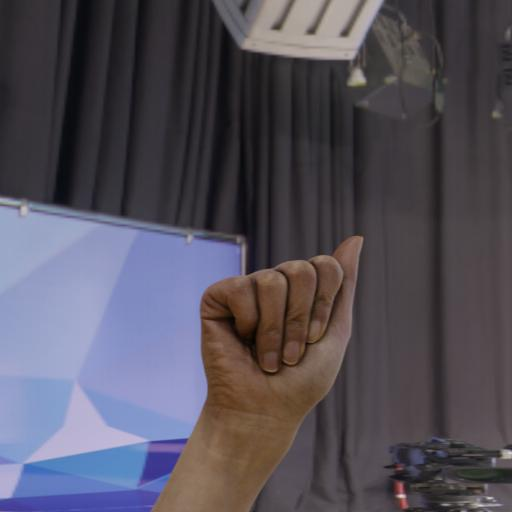A: (193, 234, 370, 418)
